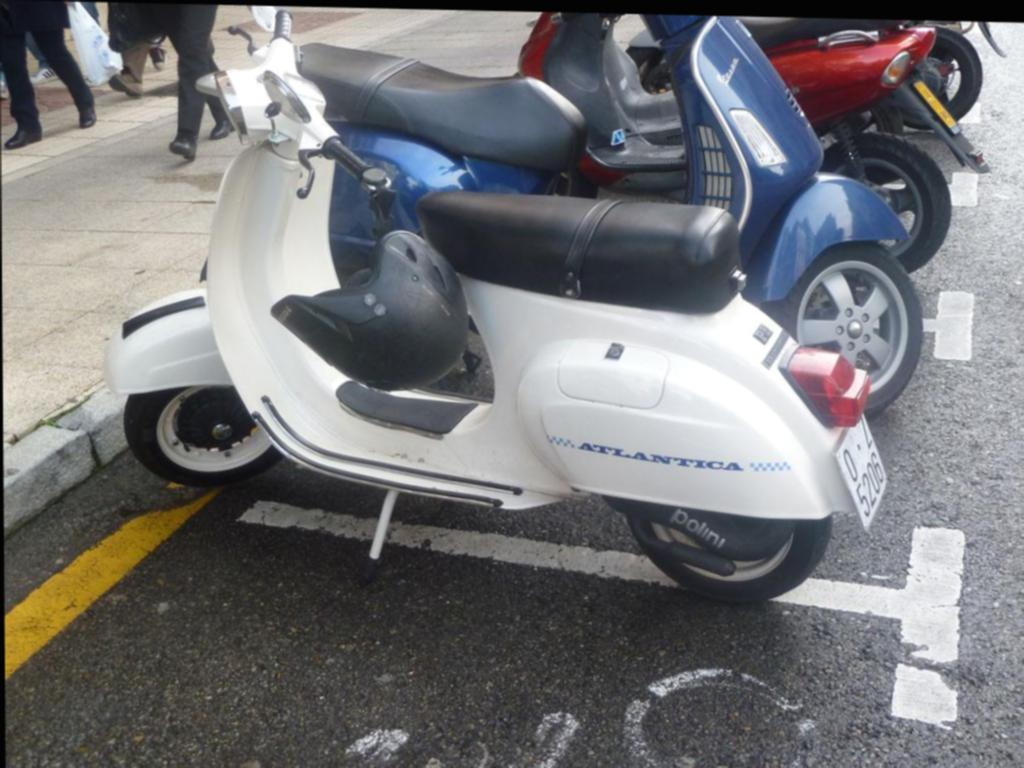License_Plate: (832, 408, 890, 534), (909, 78, 961, 136)
